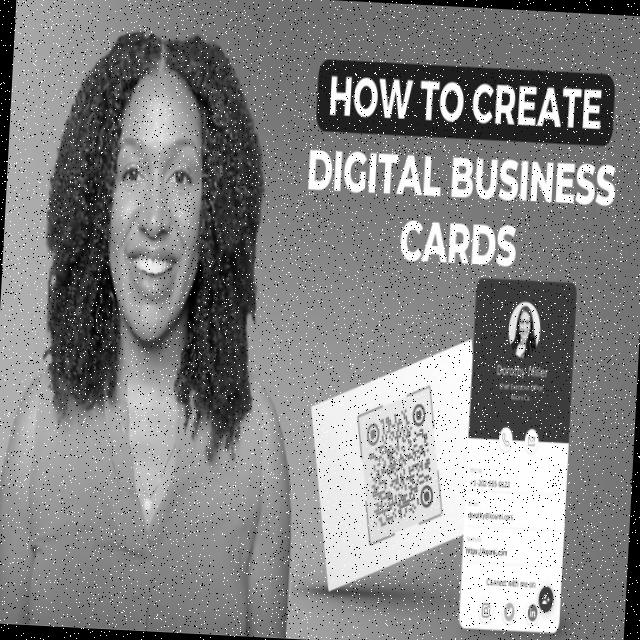QR-codes: (362, 396, 438, 534)
